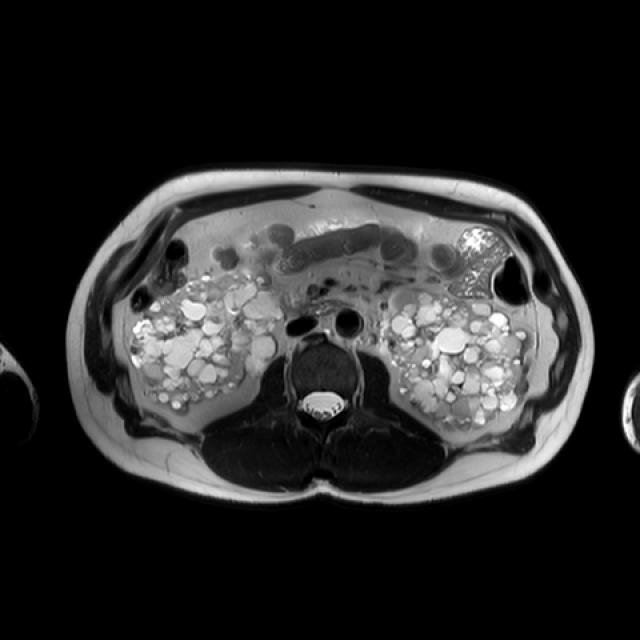sag: (125, 264, 285, 416)
sol: (378, 287, 536, 431)
